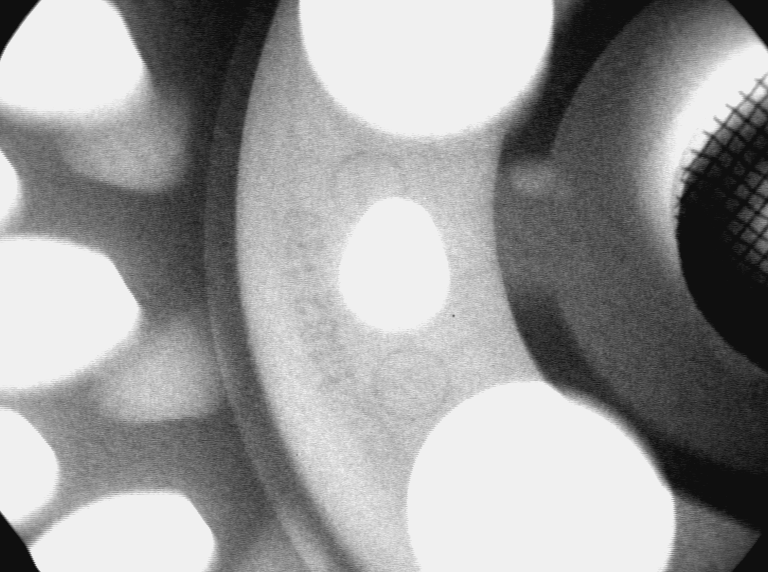defect: (513, 155, 576, 203)
